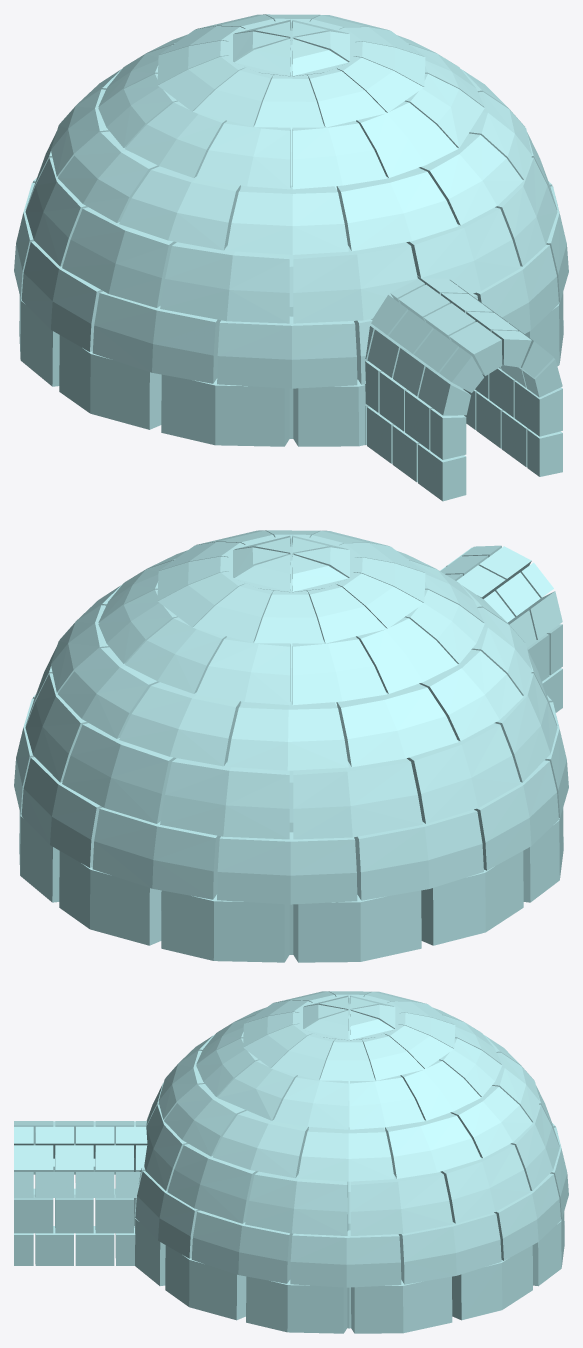
File: igloo.gltf
The picture shows the model from 3 angles, top to bottom: view 1: azimuth 30°, elevation 25°; view 2: azimuth 150°, elevation 25°; view 3: azimuth 270°, elevation 25°; orthographic projection. The views are drawn at different scales.
Parts seen in each view (by area): view 1: node-0; view 2: node-0; view 3: node-0.
Part boxes in pixels (bbox=[...]): node-0: bbox=[14, 14, 568, 501]; node-0: bbox=[14, 530, 568, 962]; node-0: bbox=[14, 991, 568, 1333].
Size of the model in its own units: 4.04 by 2.36 by 5.1.
